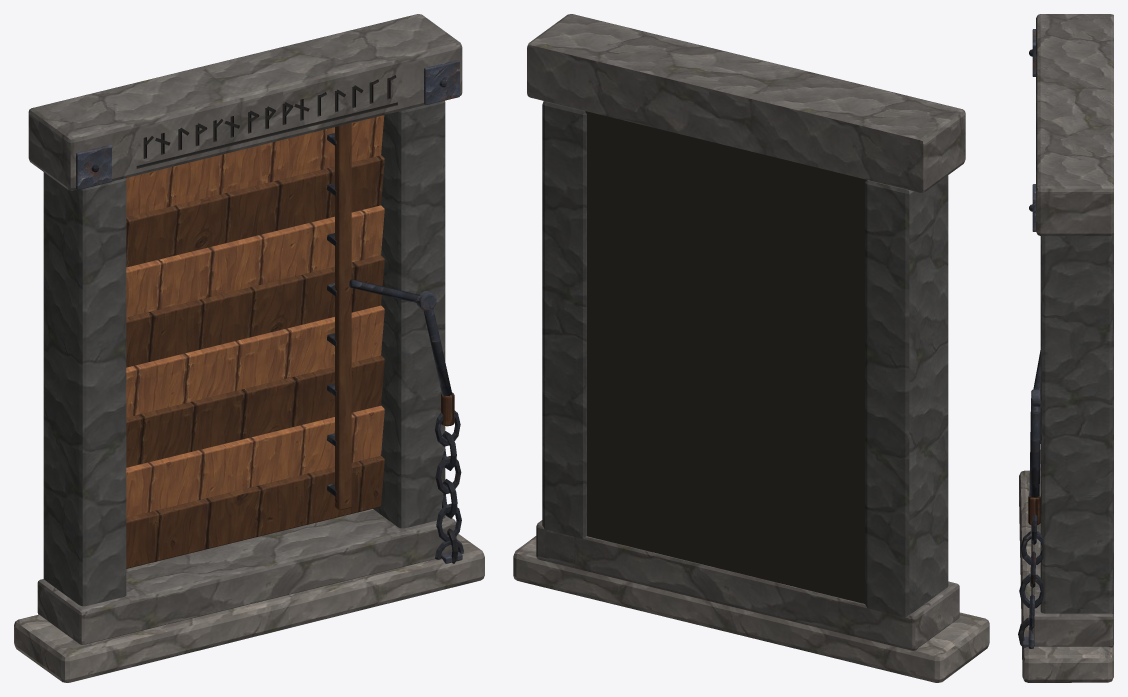
Rendered from rs_signal_shutters.glb.
3 views of the same model, side by side, from view 1: azimuth 30°, elevation 25°; view 2: azimuth 150°, elevation 25°; view 3: azimuth 270°, elevation 25° (orthographic). The views are drawn at different scales.
Parts seen in each view (by area): view 1: model; view 2: model; view 3: model.
Boxes of the visible parts, bbox=[...] form: model: bbox=[14, 14, 484, 682]; model: bbox=[513, 14, 989, 682]; model: bbox=[1018, 14, 1113, 682].
Bounding box in the file's own units: 1.47 × 1.77 × 0.314.
9 materials, 7 textured.
